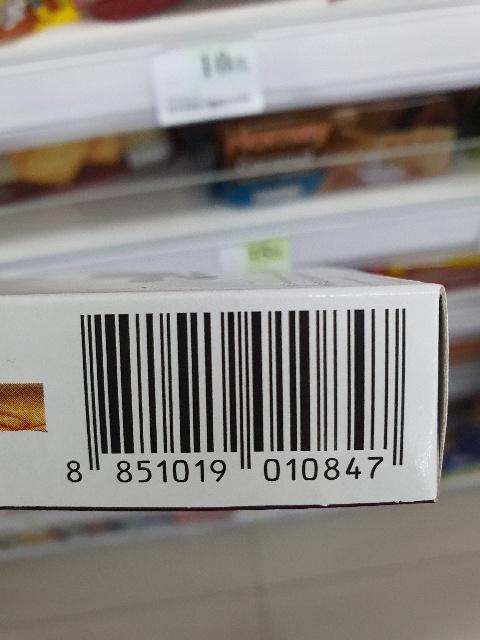Barcode: (57, 298, 413, 492)
